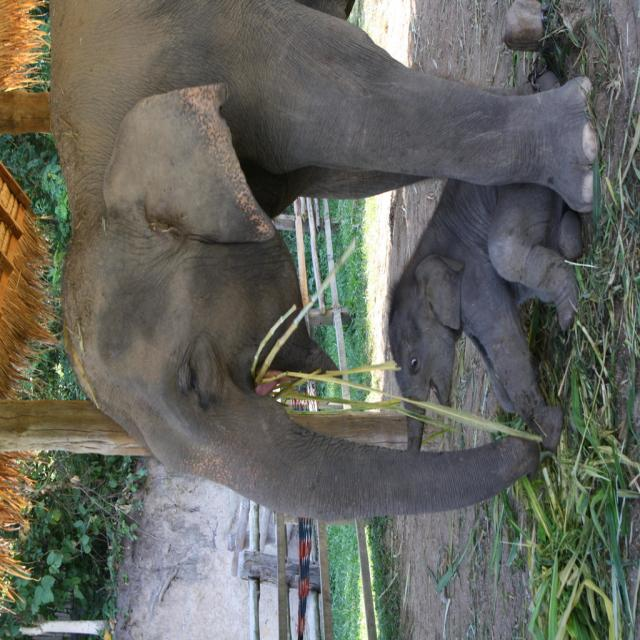elephant: (58, 0, 600, 525), (386, 78, 592, 457)
